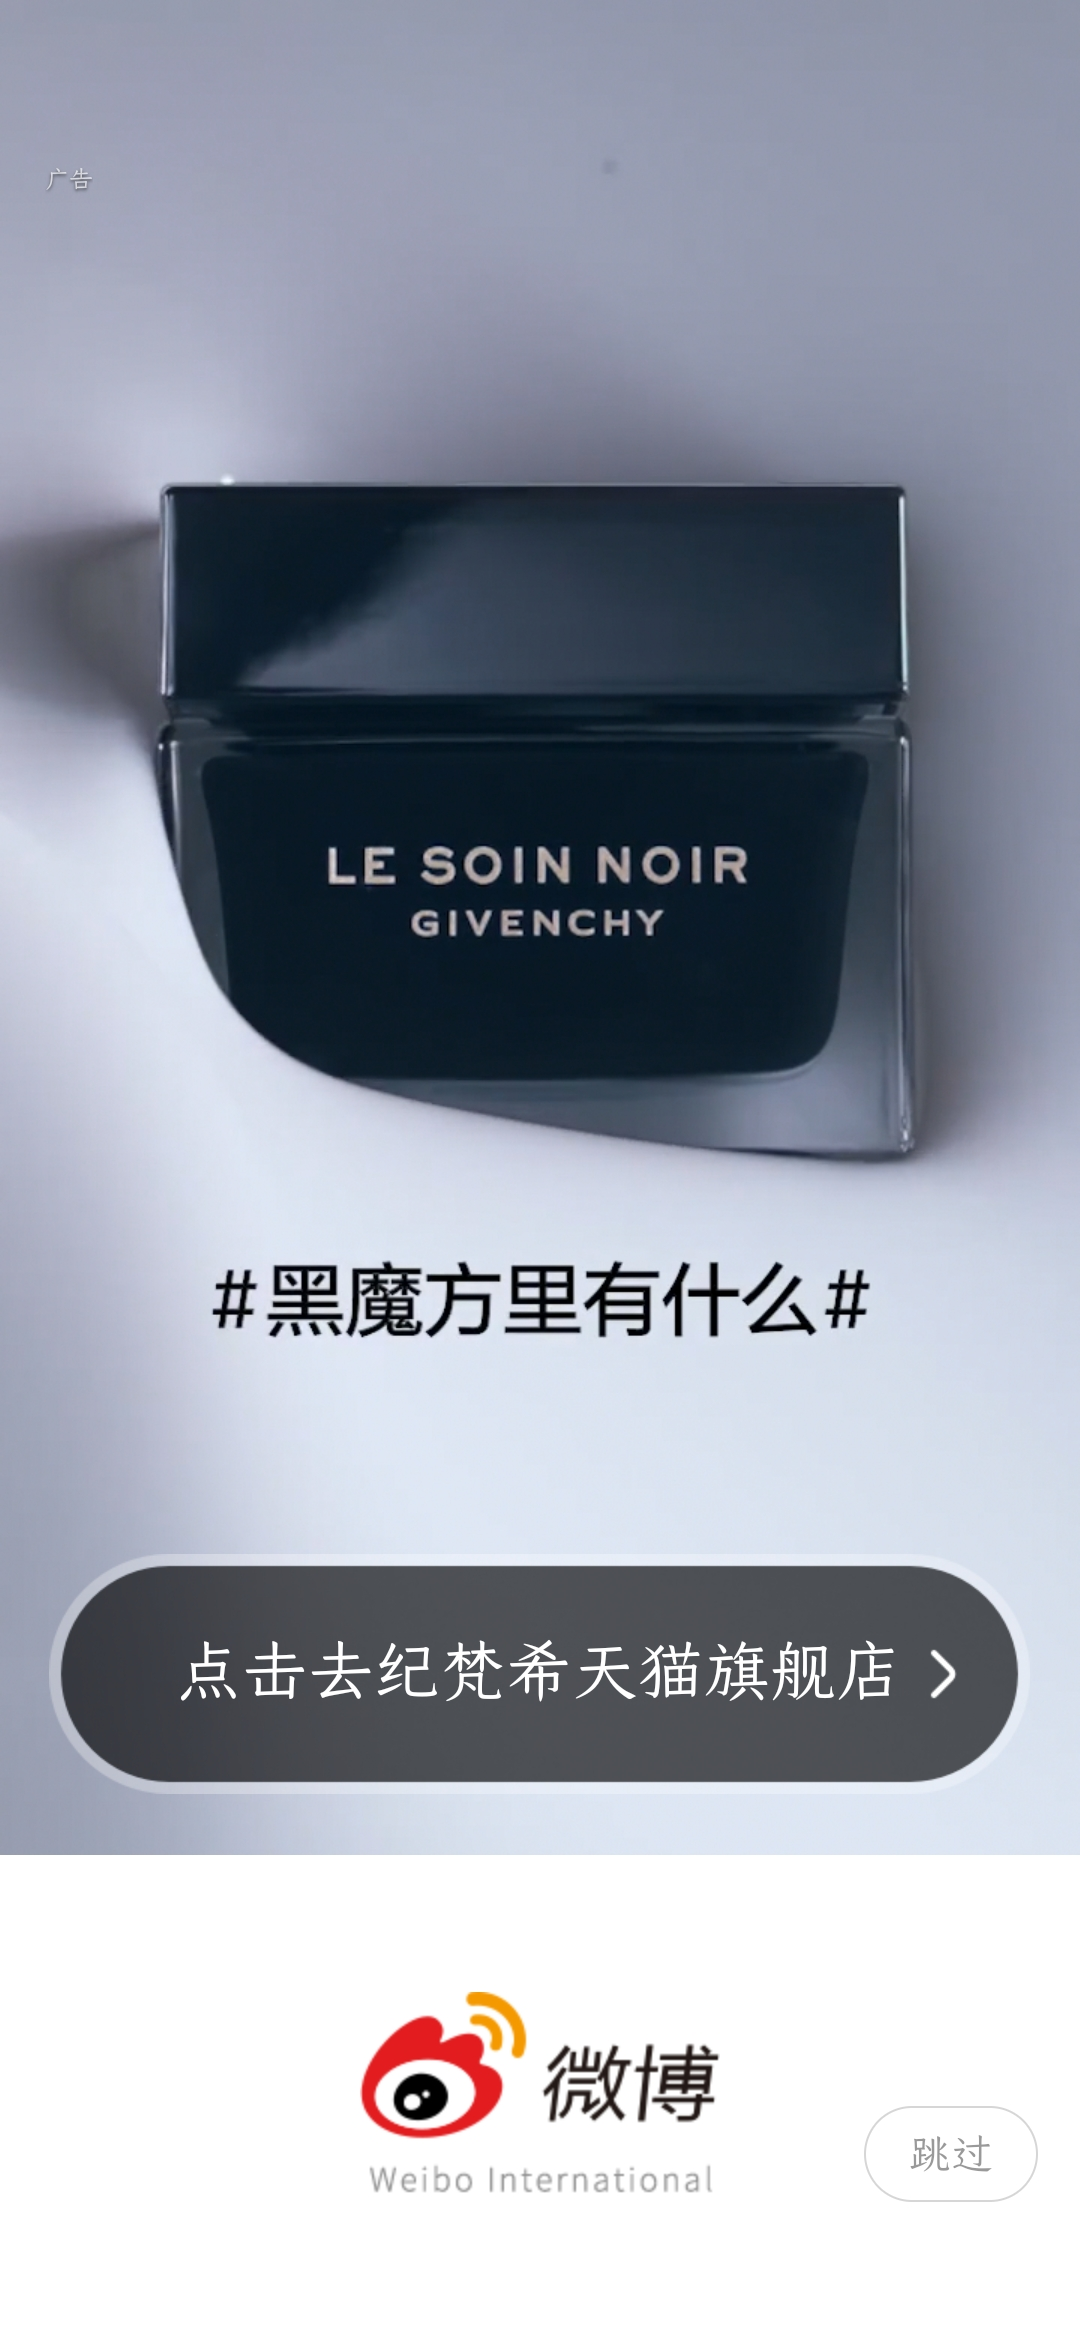skip: (877, 2109, 1013, 2197)
